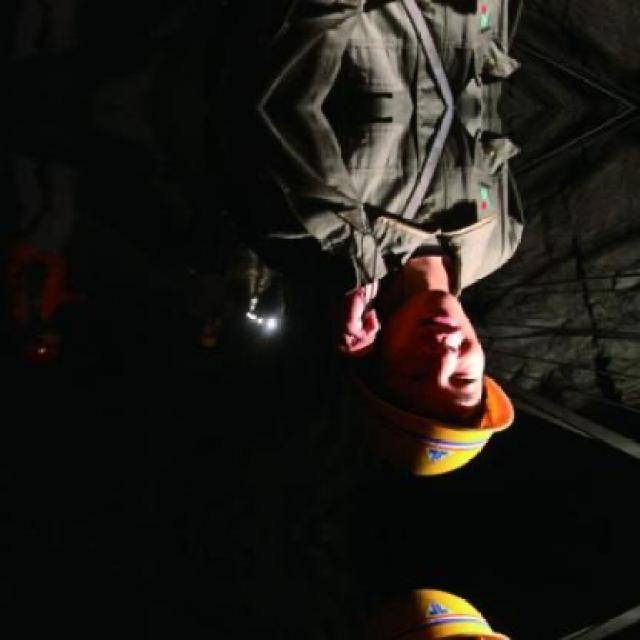con casco: (334, 290, 516, 510)
